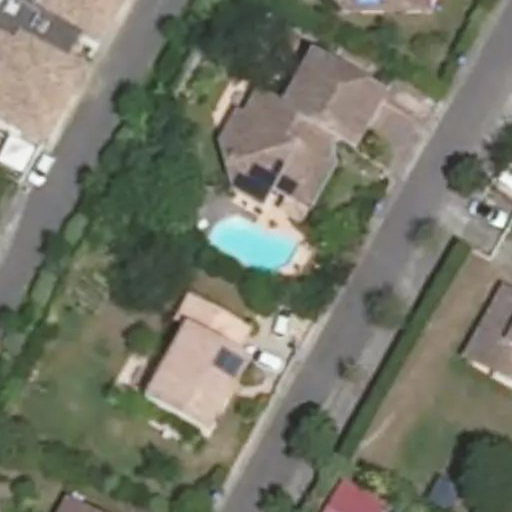pool: (208, 217, 300, 275)
